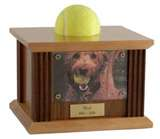tennis ball: (55, 4, 100, 36)
